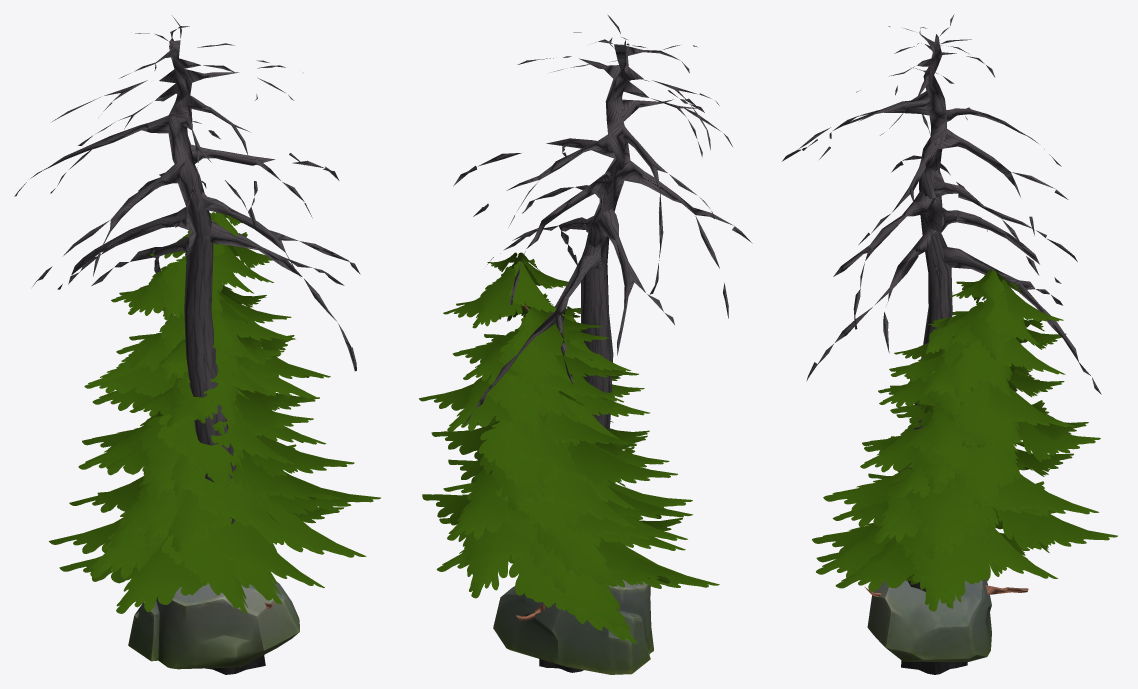
Rendered from forest.glb.
3 views of the same model, side by side, from view 1: azimuth 30°, elevation 25°; view 2: azimuth 150°, elevation 25°; view 3: azimuth 270°, elevation 25° (orthographic). The views are drawn at different scales.
Parts seen in each view (by area): view 1: Pine_5, Pine_2, DeadTree_3, Rock_Medium_2; view 2: Pine_5, DeadTree_3, Pine_2, Rock_Medium_2; view 3: Pine_5, DeadTree_3, Pine_2, Rock_Medium_2.
Boxes of the visible parts, x1=… form: Pine_5: x1=49, y1=212, x2=380, y2=604; Pine_2: x1=59, y1=294, x2=344, y2=613; DeadTree_3: x1=14, y1=17, x2=360, y2=674; Rock_Medium_2: x1=128, y1=580, x2=299, y2=669; Pine_5: x1=419, y1=252, x2=701, y2=629; DeadTree_3: x1=453, y1=14, x2=752, y2=672; Pine_2: x1=436, y1=306, x2=719, y2=643; Rock_Medium_2: x1=493, y1=579, x2=653, y2=674; Pine_5: x1=816, y1=268, x2=1117, y2=611; DeadTree_3: x1=782, y1=14, x2=1101, y2=674; Pine_2: x1=812, y1=316, x2=1058, y2=608; Rock_Medium_2: x1=867, y1=579, x2=991, y2=661.
Bounding box in the file's own units: 7.26 × 13.28 × 6.81.
6 materials, 6 textured.
